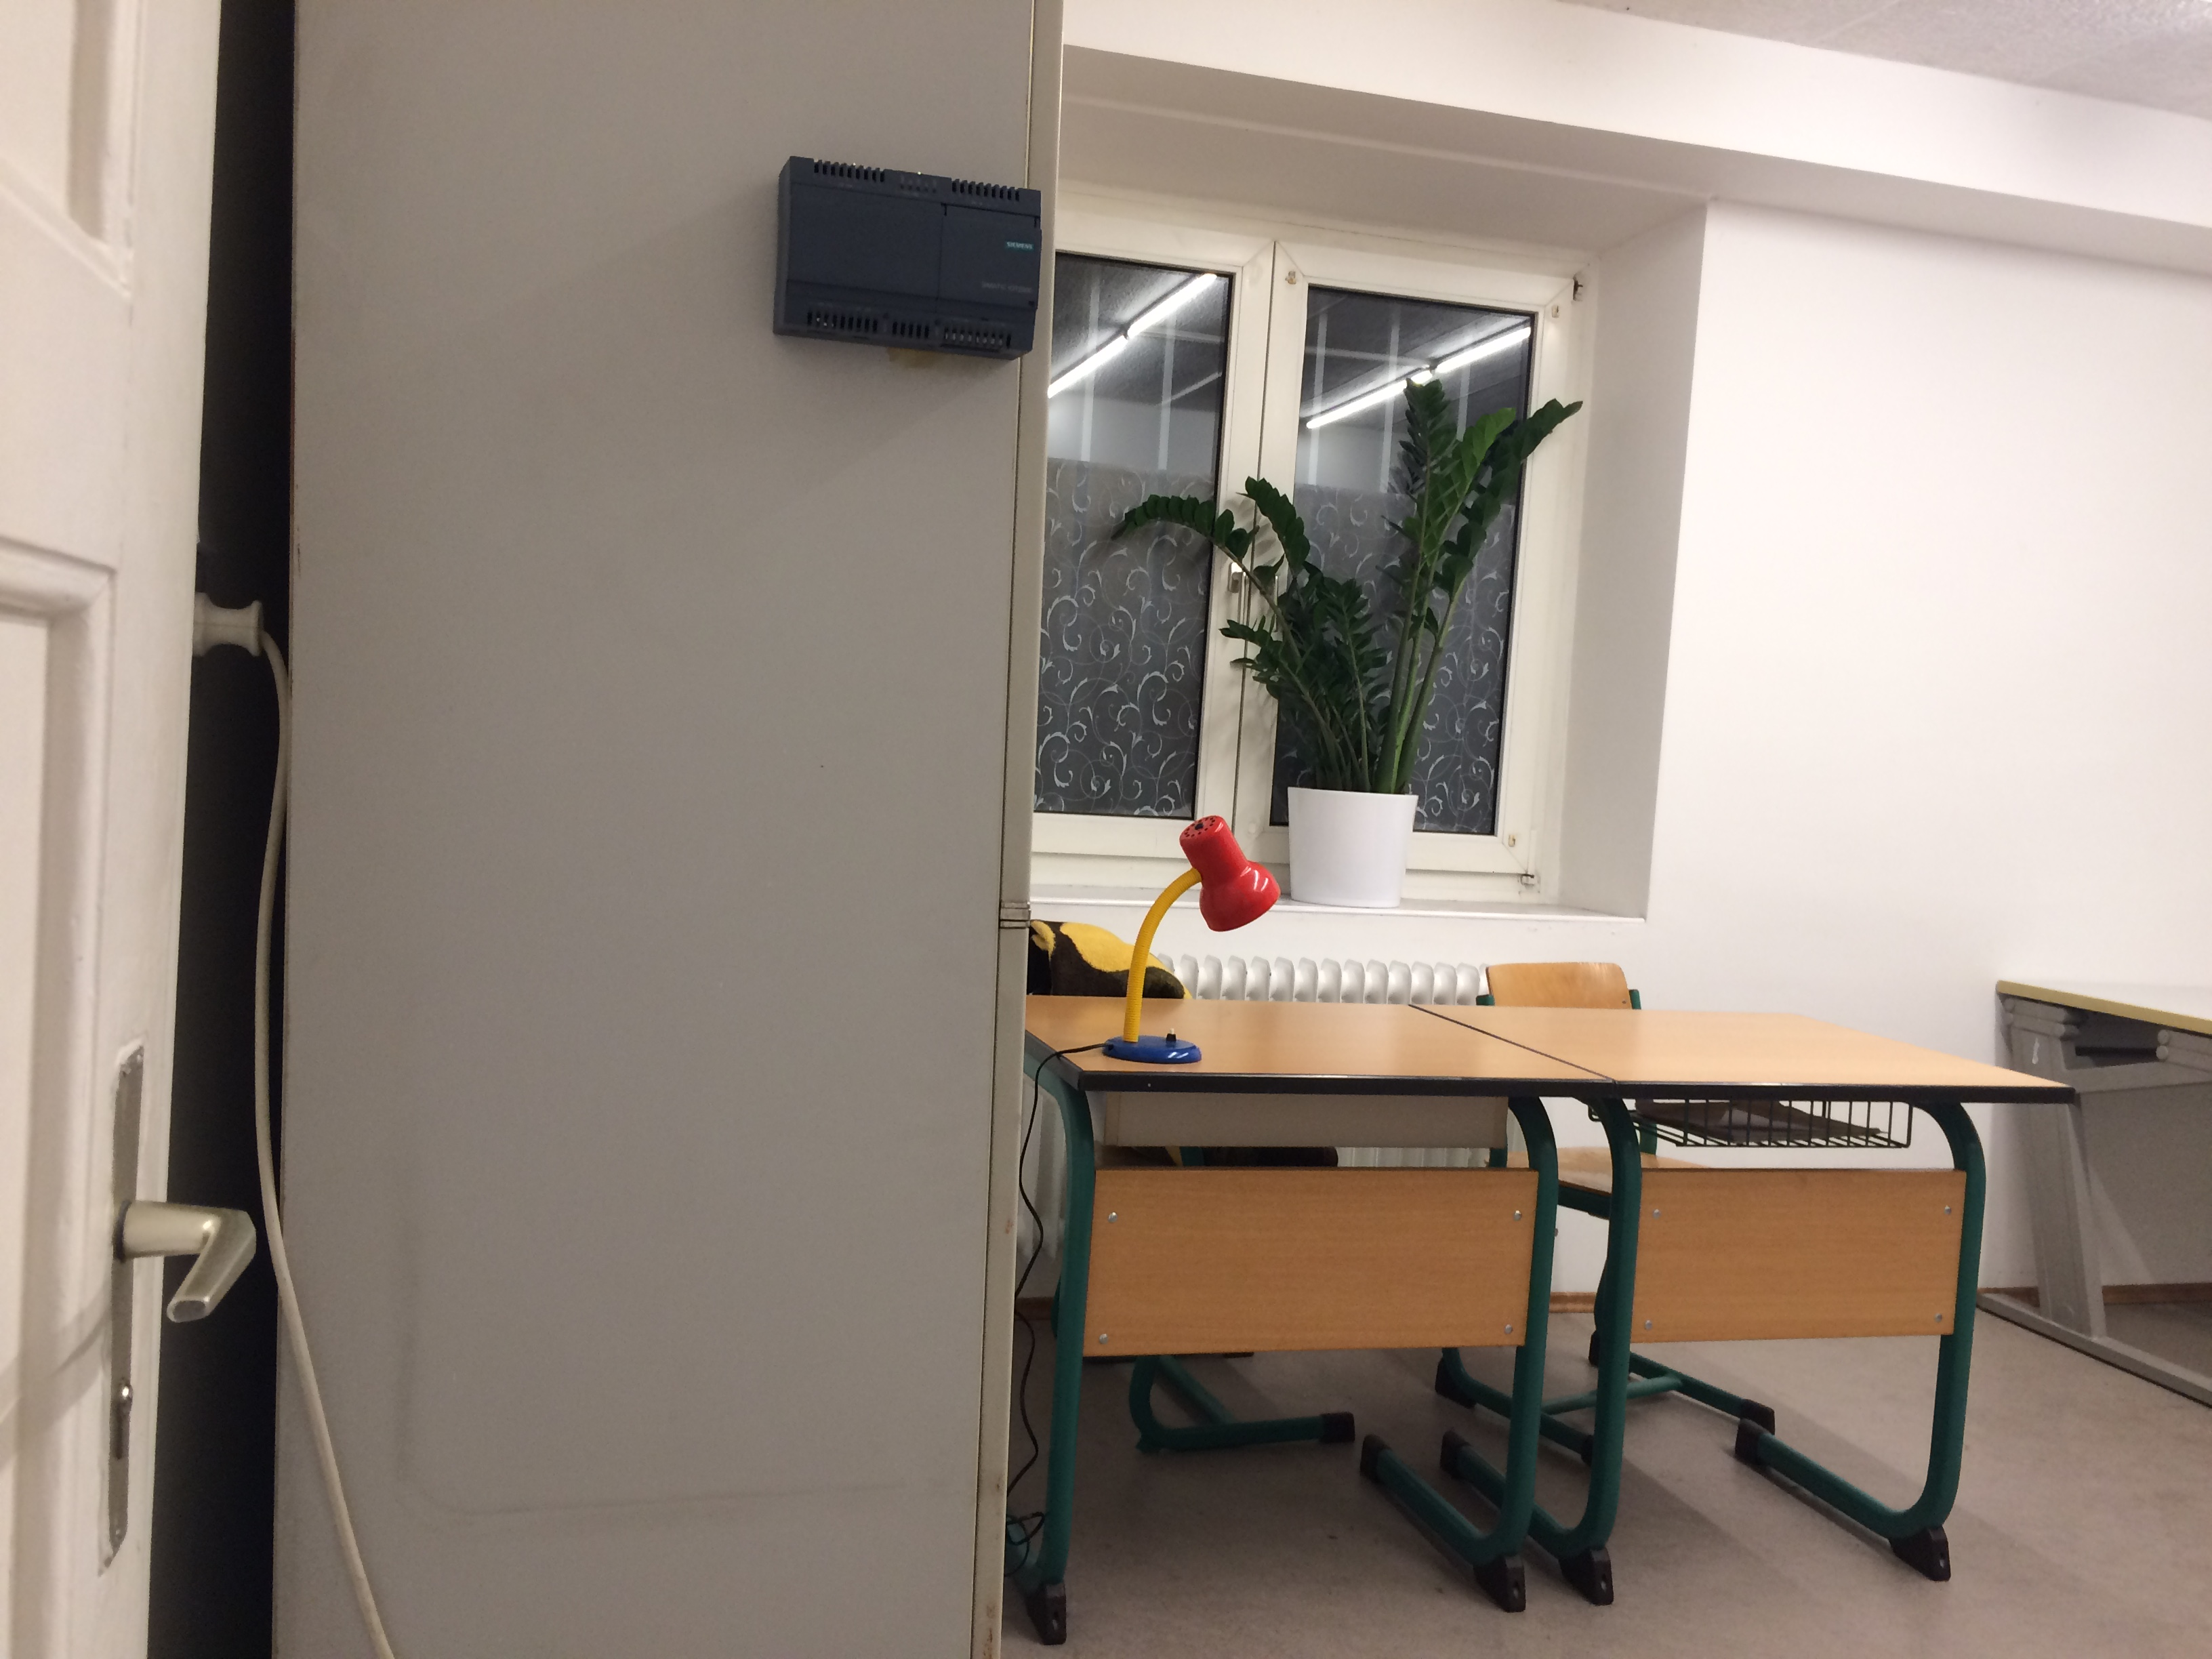iot2000: (770, 153, 1045, 368)
